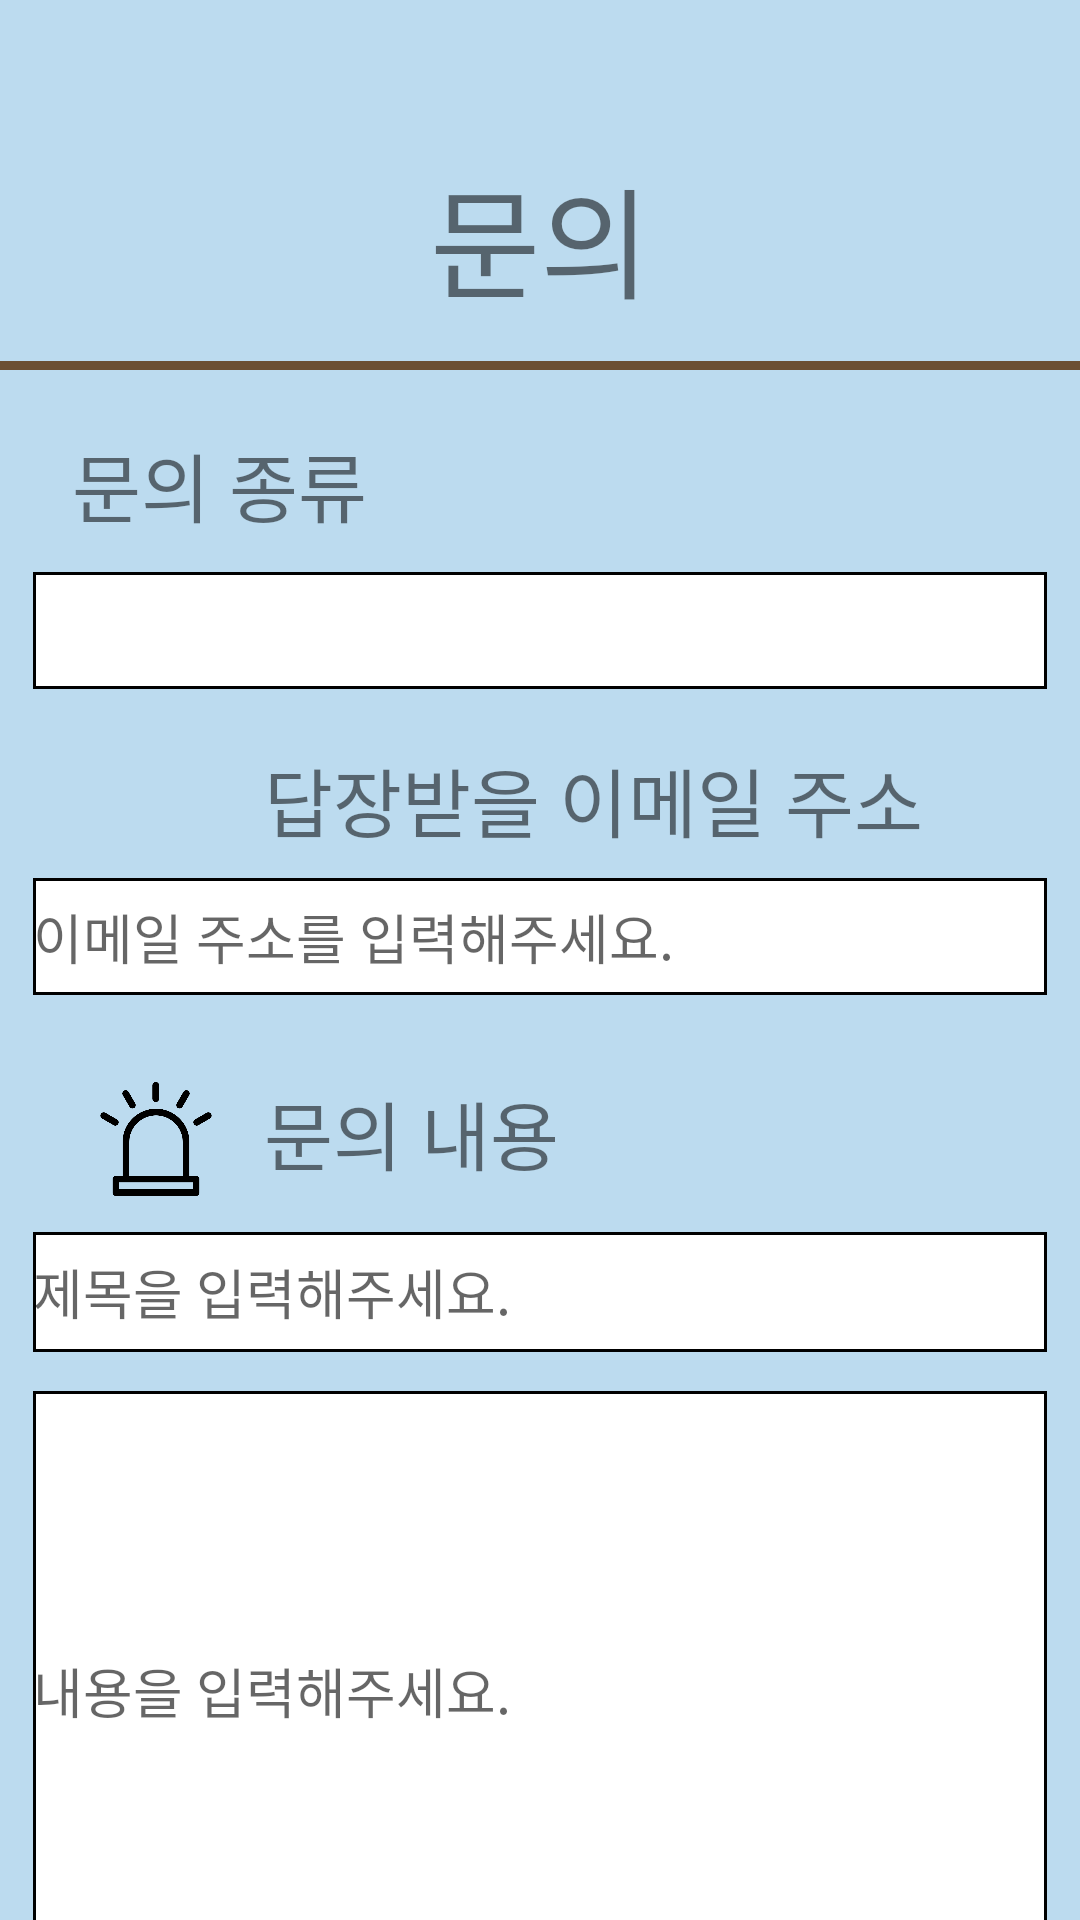

Icons on this 1080*1920 Android screen, each with the point to tap as [x,y]:
alert: [156,1139]
